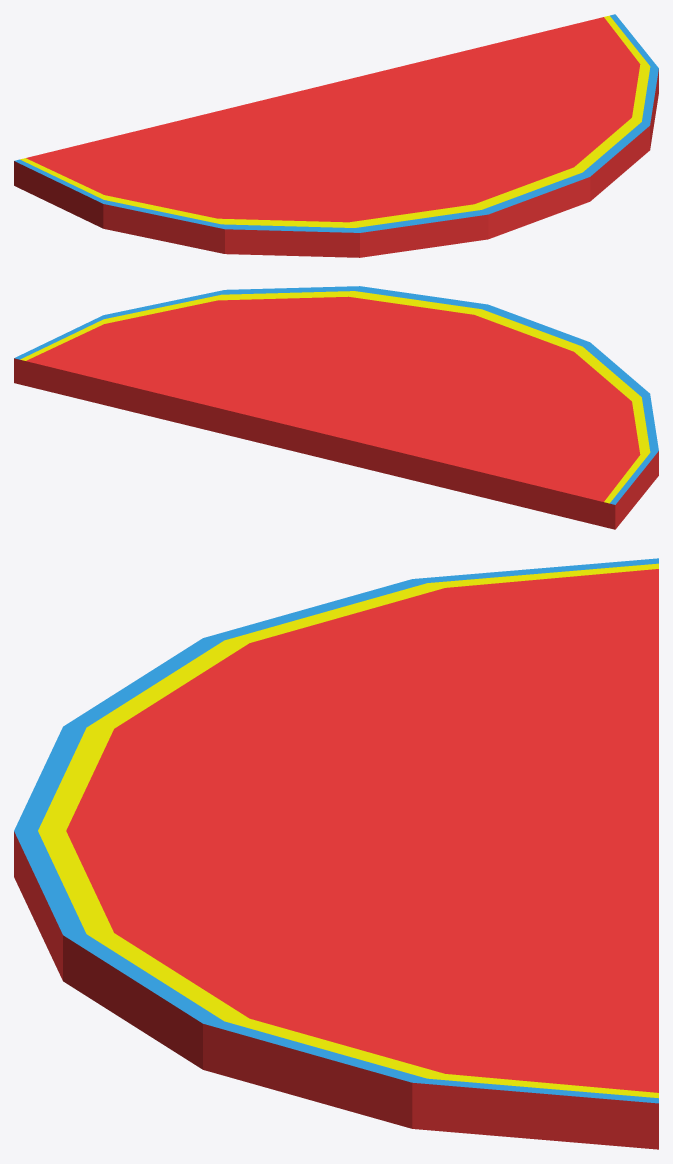
File: EVPicadeiroFundo.fbx
The picture shows the model from 3 angles, top to bottom: view 1: azimuth 30°, elevation 25°; view 2: azimuth 150°, elevation 25°; view 3: azimuth 270°, elevation 25°; orthographic projection. The views are drawn at different scales.
Visible parts, largest first — view 1: Cube.009; view 2: Cube.009; view 3: Cube.009.
Part boxes in pixels (x1,y1,x2,y2): Cube.009: (14, 14, 658, 257); Cube.009: (14, 286, 658, 529); Cube.009: (14, 558, 658, 1149).
Size of the model in its own units: 7483 by 295 by 3741.
1 material, 1 textured.
